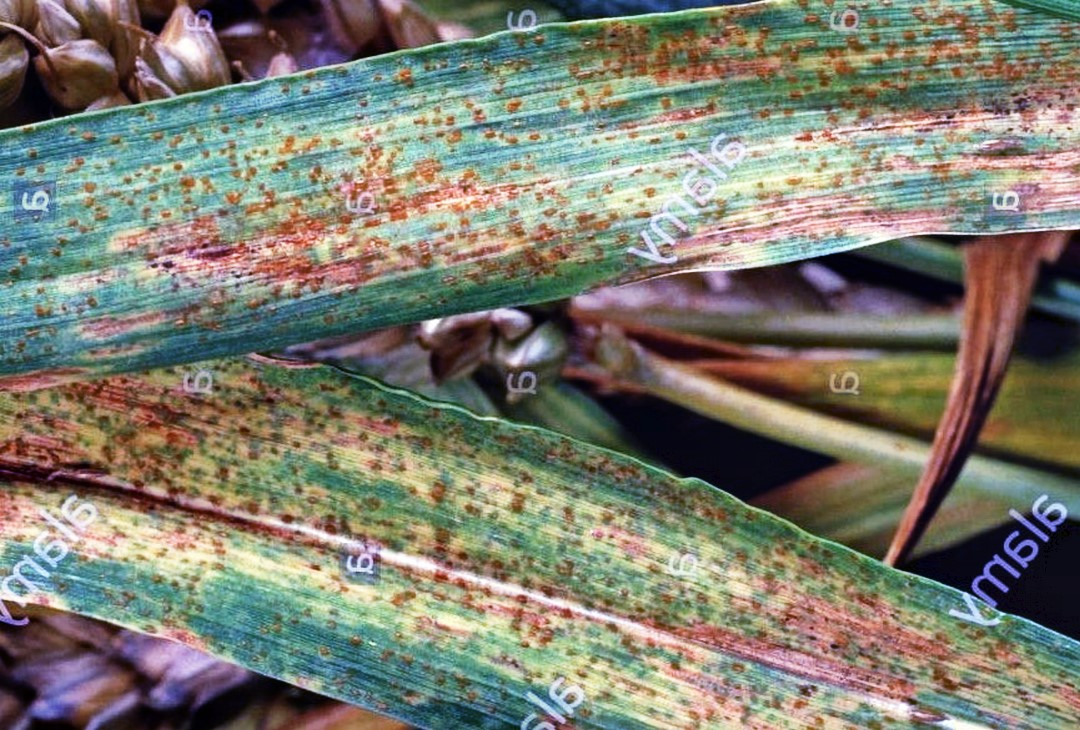Leaf Rust: (125, 416, 886, 730), (76, 65, 590, 305)
